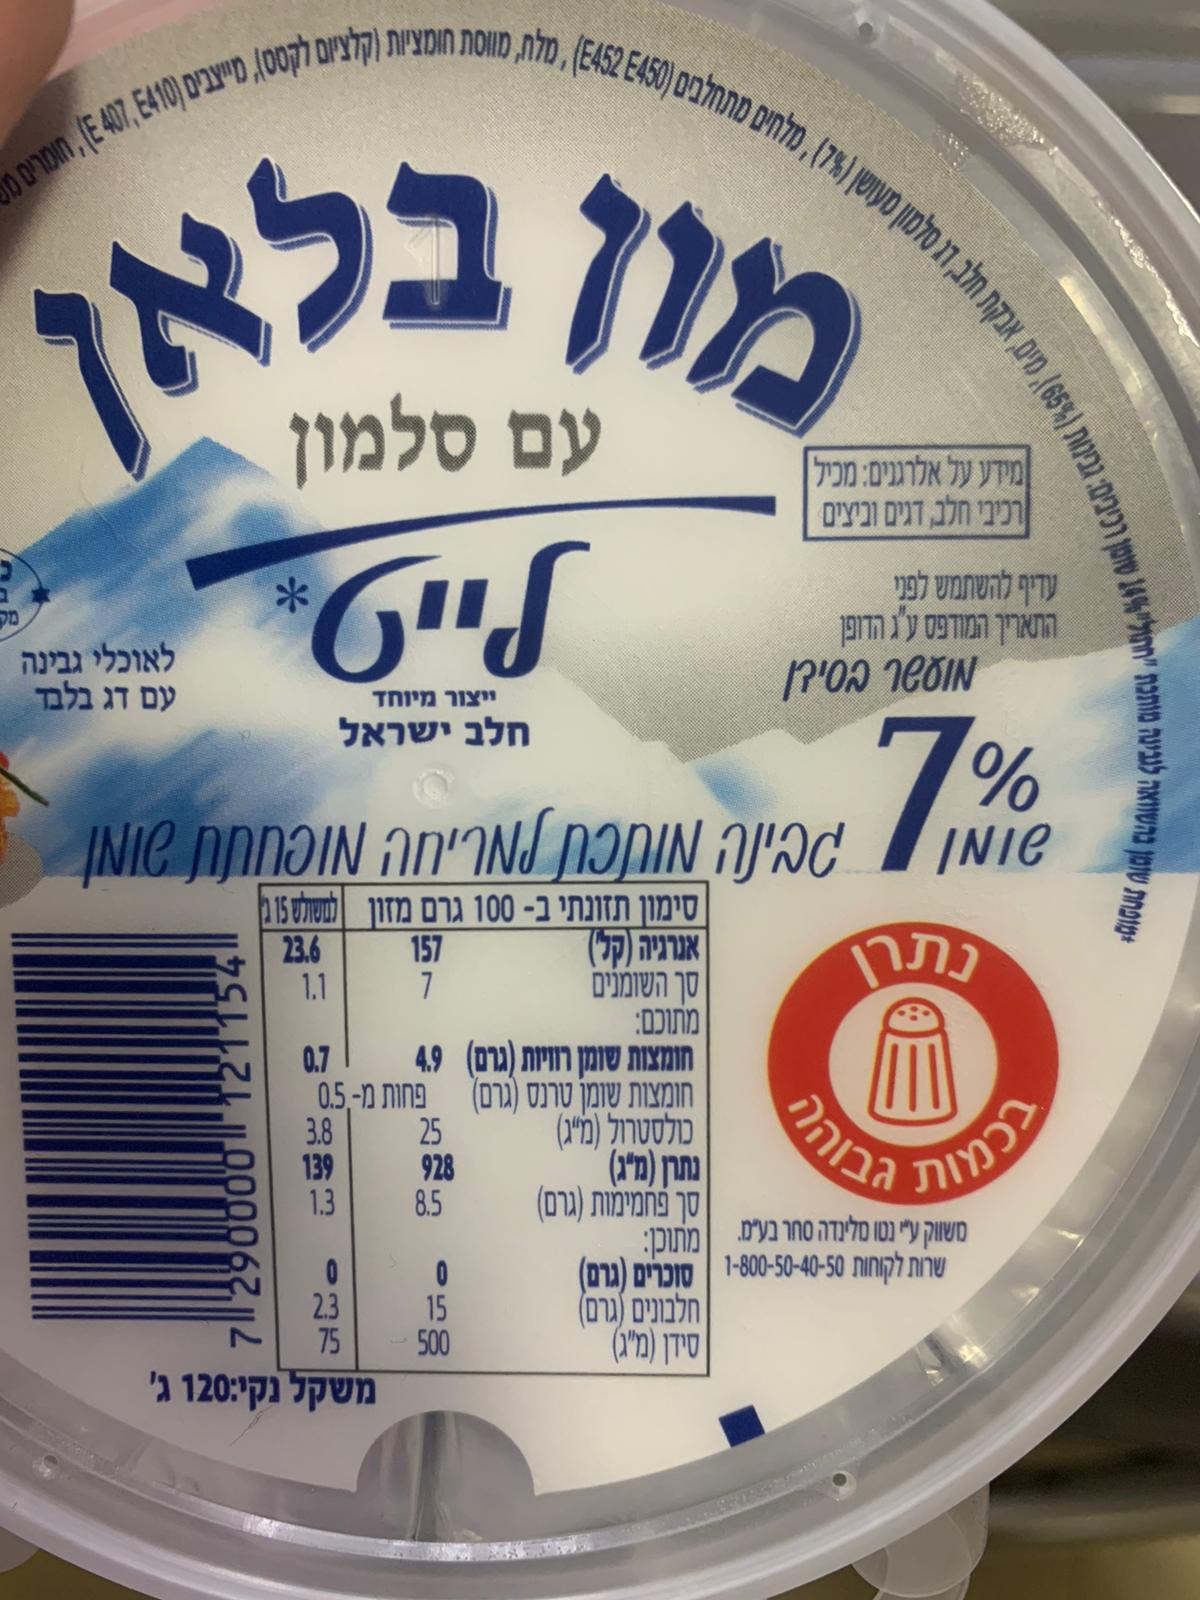salt: (766, 918, 1063, 1209)
